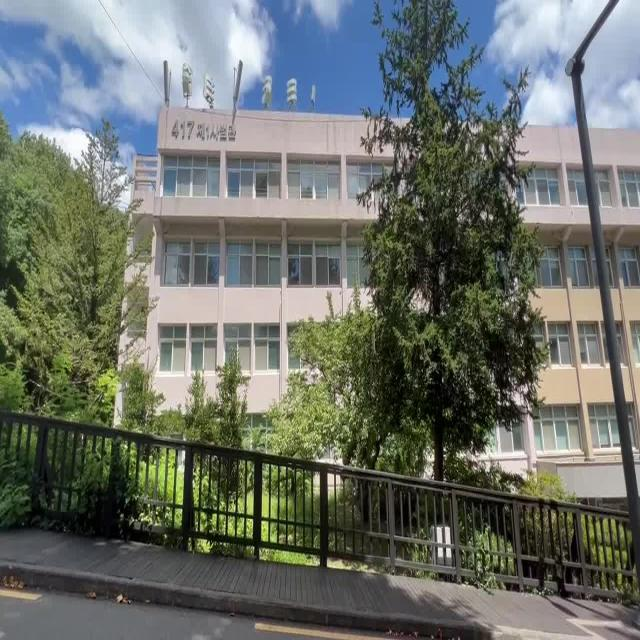building: (120, 68, 330, 386)
